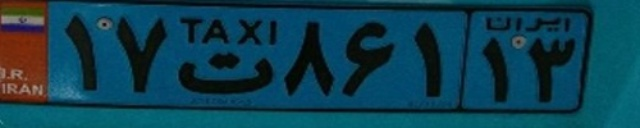1: (63, 13, 98, 91), (410, 22, 442, 98), (478, 36, 509, 102)
3: (526, 37, 575, 103)
6: (339, 20, 395, 96)
7: (116, 15, 167, 93)
8: (282, 20, 335, 96)
te: (178, 50, 273, 95)
